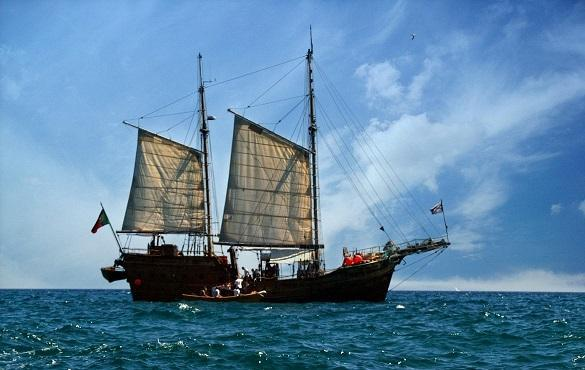fanchuan: (90, 18, 451, 303)
